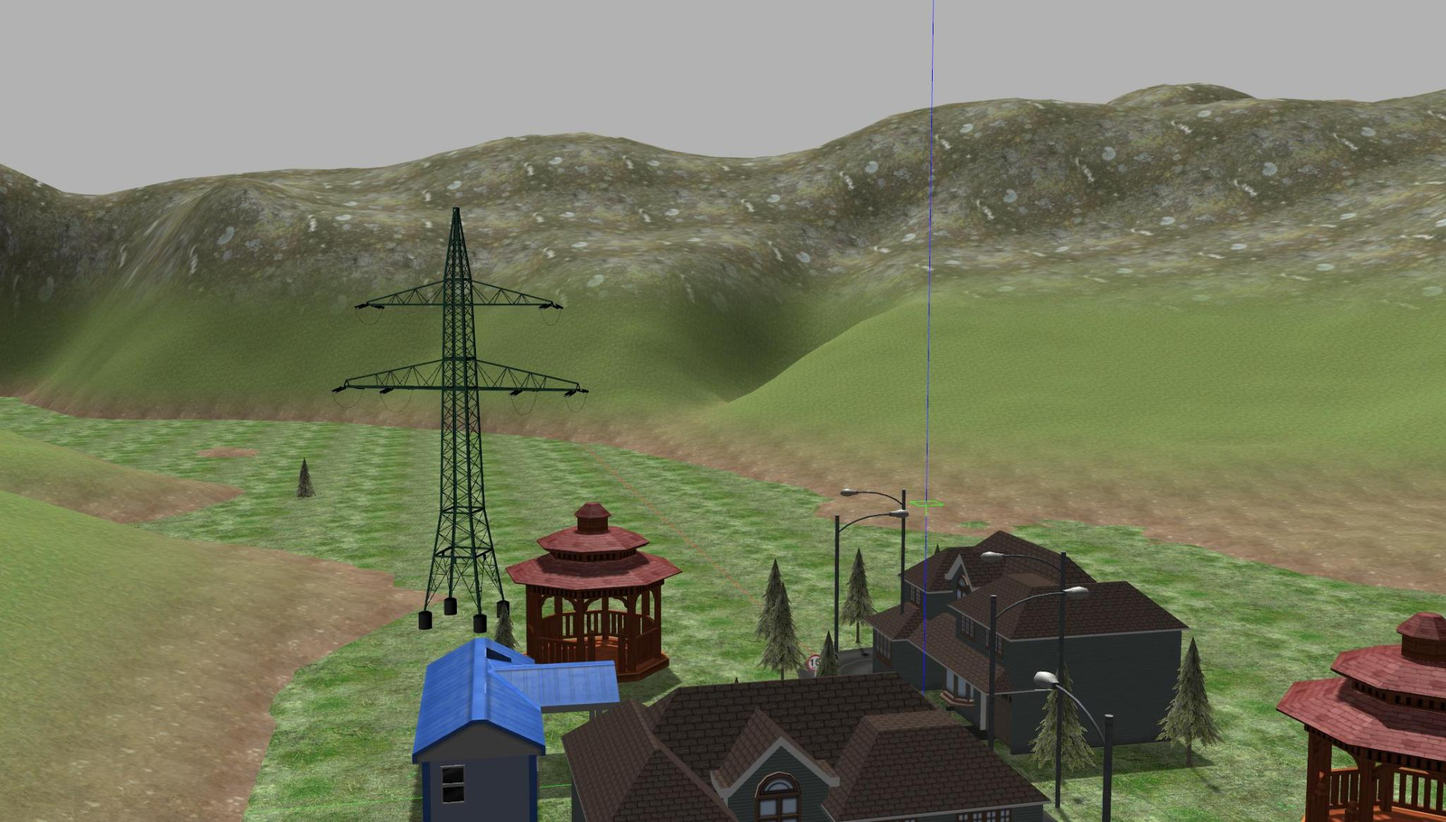tower: (346, 205, 585, 612)
